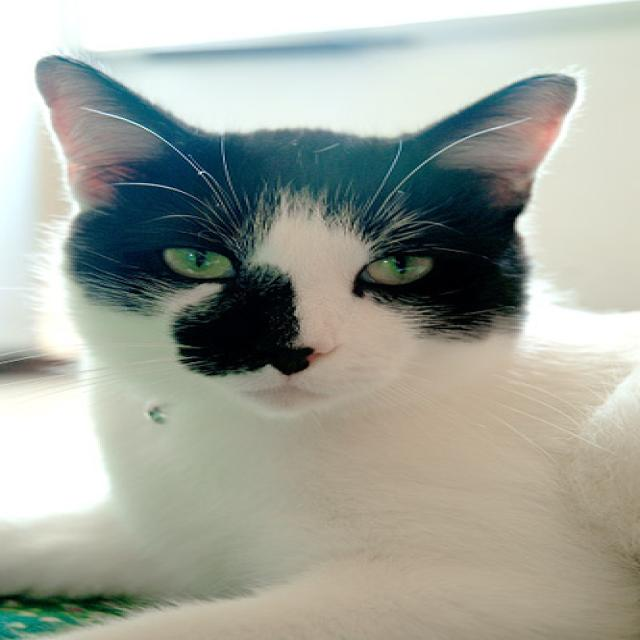cat: (1, 54, 639, 640)
